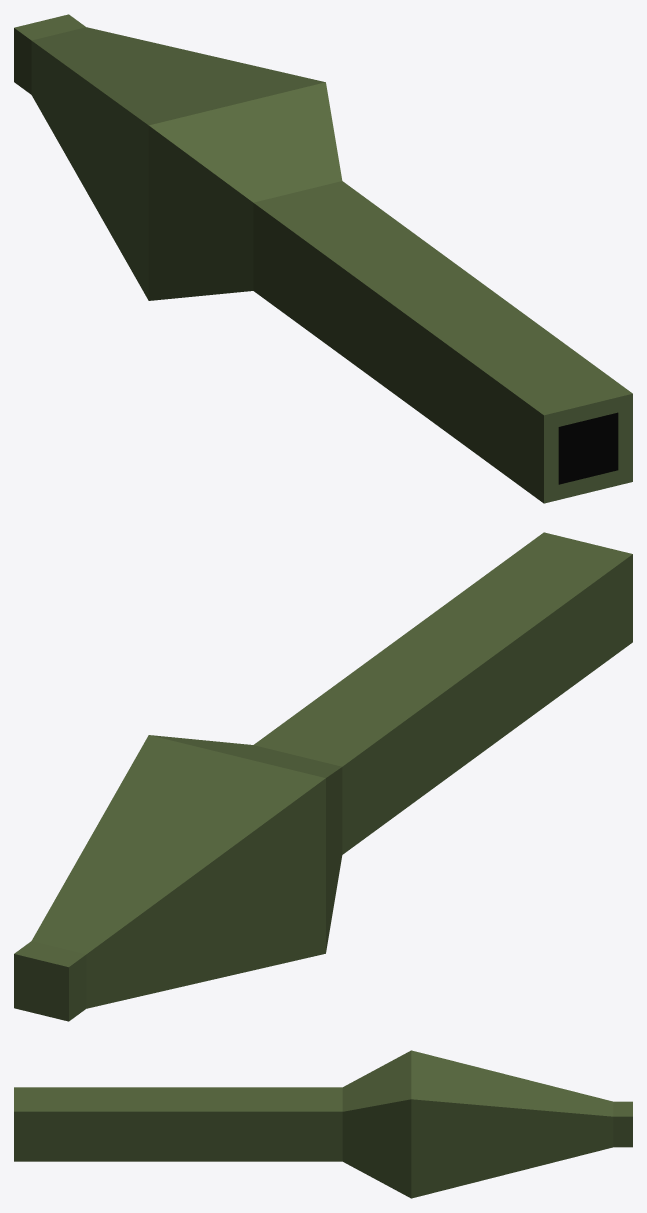
Rendered from Ammo_RPG.fbx.
3 renders of one model, top to bottom at view 1: azimuth 30°, elevation 25°; view 2: azimuth 150°, elevation 25°; view 3: azimuth 270°, elevation 25°, orthographic. The views are drawn at different scales.
Parts seen in each view (by area): view 1: Ammo_RPG; view 2: Ammo_RPG; view 3: Ammo_RPG.
Boxes of the visible parts, x1,y1,x2,y2 form: Ammo_RPG: [14, 14, 632, 503]; Ammo_RPG: [14, 532, 632, 1021]; Ammo_RPG: [14, 1050, 632, 1198].
Size of the model in its own units: 37.75 by 35.75 by 202.
